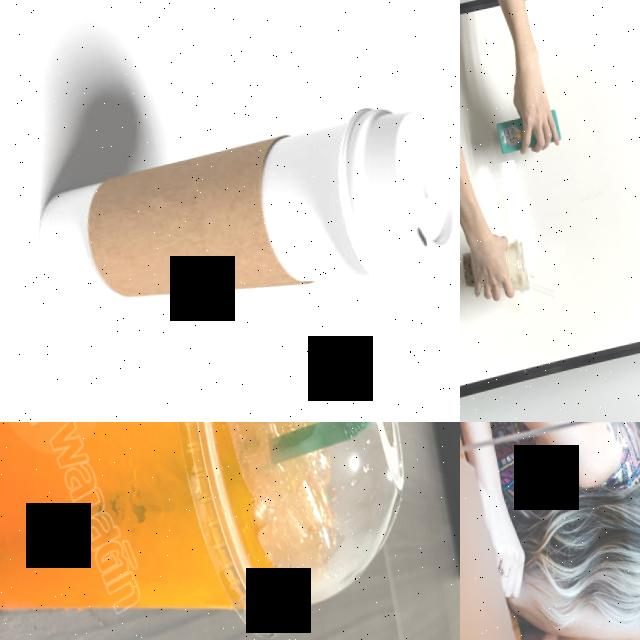cup: (30, 90, 460, 337), (0, 422, 431, 640), (460, 236, 530, 305)
